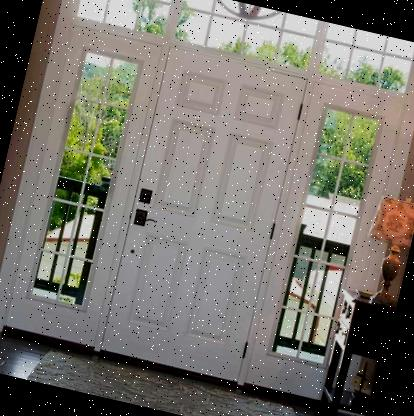door: (88, 40, 314, 393)
